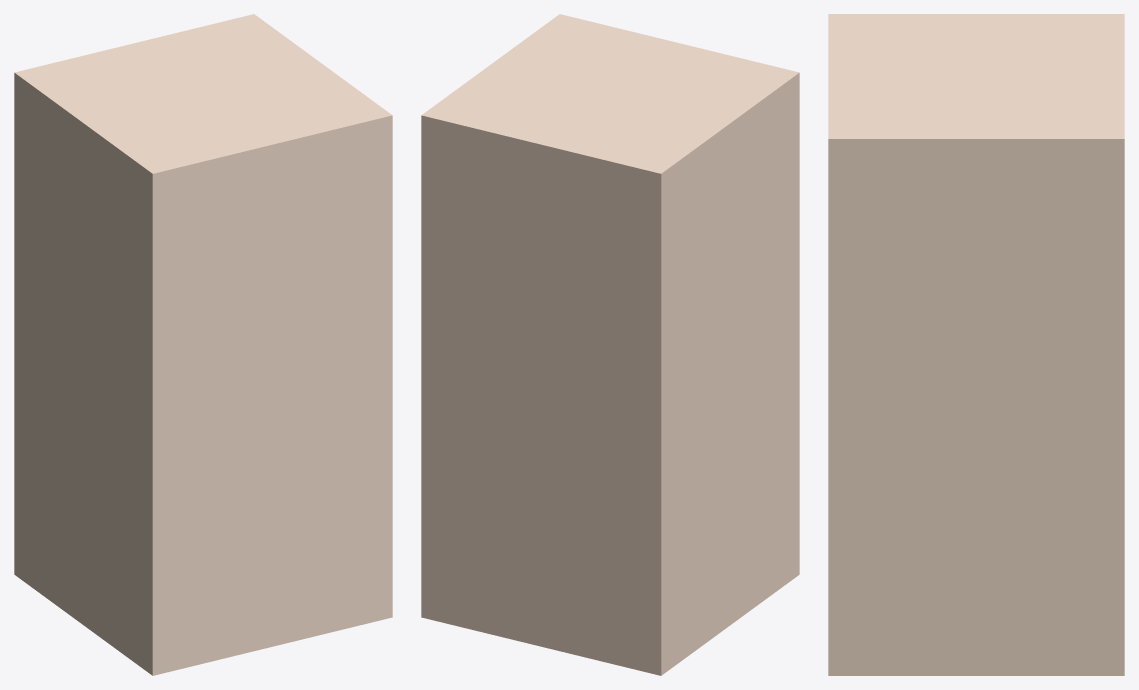
File: kiritan-1-LeftLeg_0.obj
3 renders of one model, left to right at view 1: azimuth 30°, elevation 25°; view 2: azimuth 150°, elevation 25°; view 3: azimuth 270°, elevation 25°, orthographic. The views are drawn at different scales.
Parts seen in each view (by area): view 1: LeftLeg_0; view 2: LeftLeg_0; view 3: LeftLeg_0.
Boxes of the visible parts, left/top/right/bottom form: LeftLeg_0: left=14, top=14, right=392, bottom=675; LeftLeg_0: left=421, top=14, right=799, bottom=675; LeftLeg_0: left=828, top=14, right=1124, bottom=675.
Size of the model in its own units: 0.4 by 0.8 by 0.4.
Materials: 1 (1 with a texture image).
